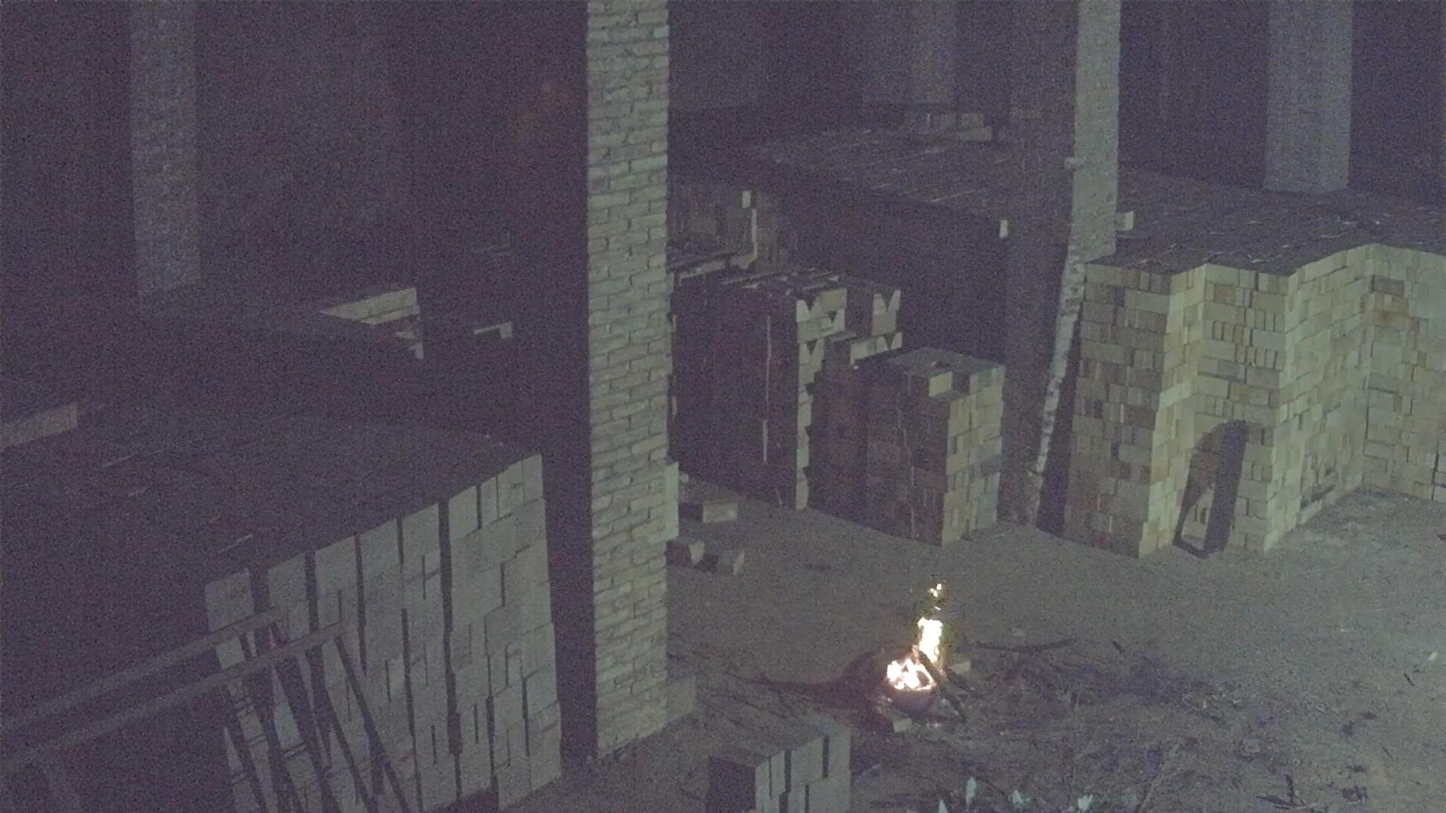fire: (881, 617, 944, 712)
